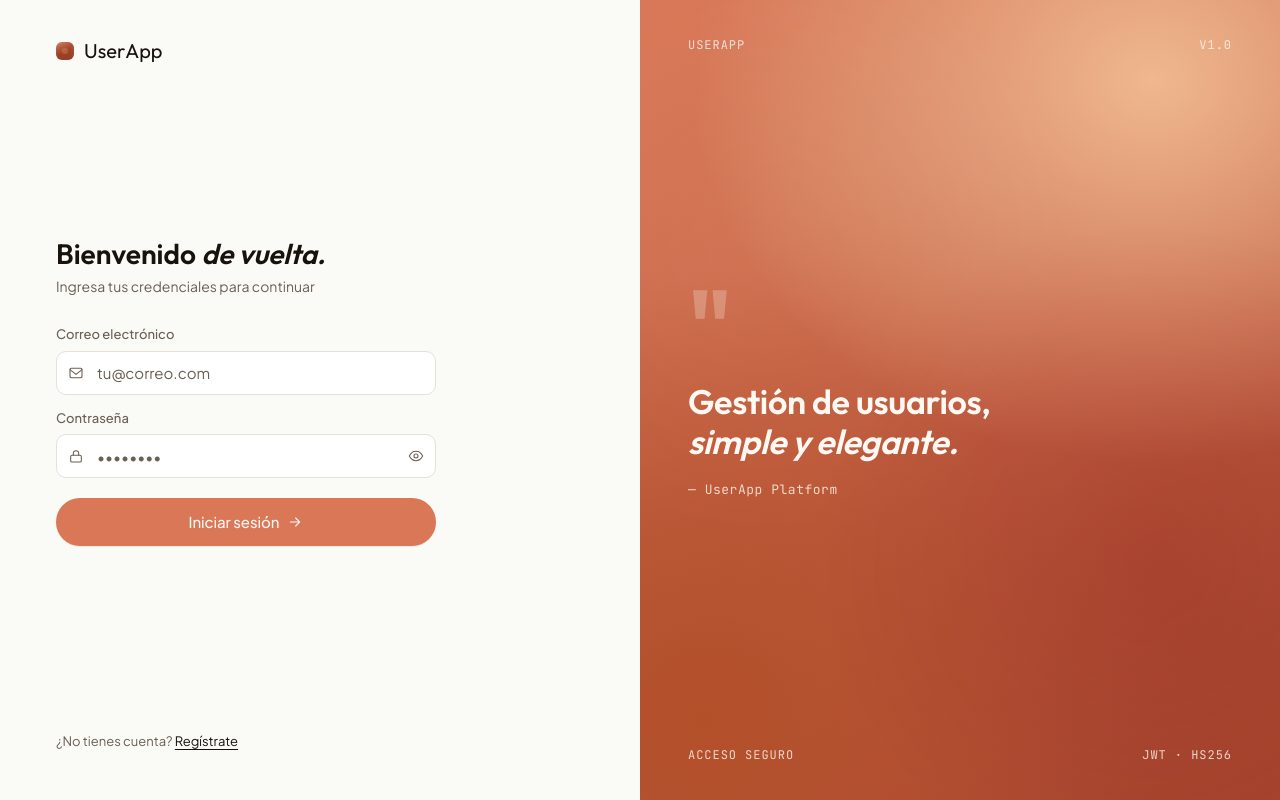
it: LoginPage › shows validation errors when submitted empty
The width and height of the screenshot is (1280, 800).
Step 1. Click the button "Iniciar sesión" → (246, 522), box [56, 498, 436, 546]
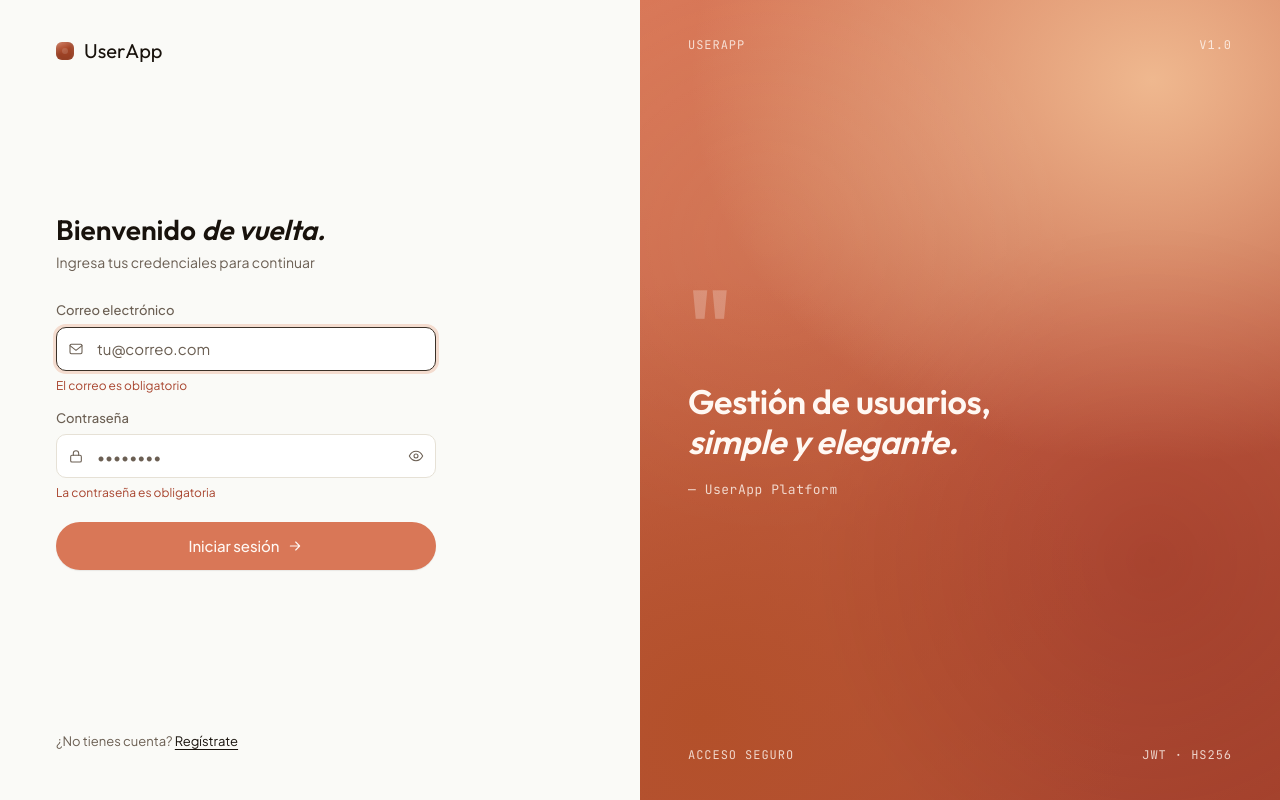
Now the text "El correo es obligatorio" is shown, box [56, 378, 187, 393]
Now the text "La contraseña es obligatoria" is shown, box [56, 485, 216, 500]
